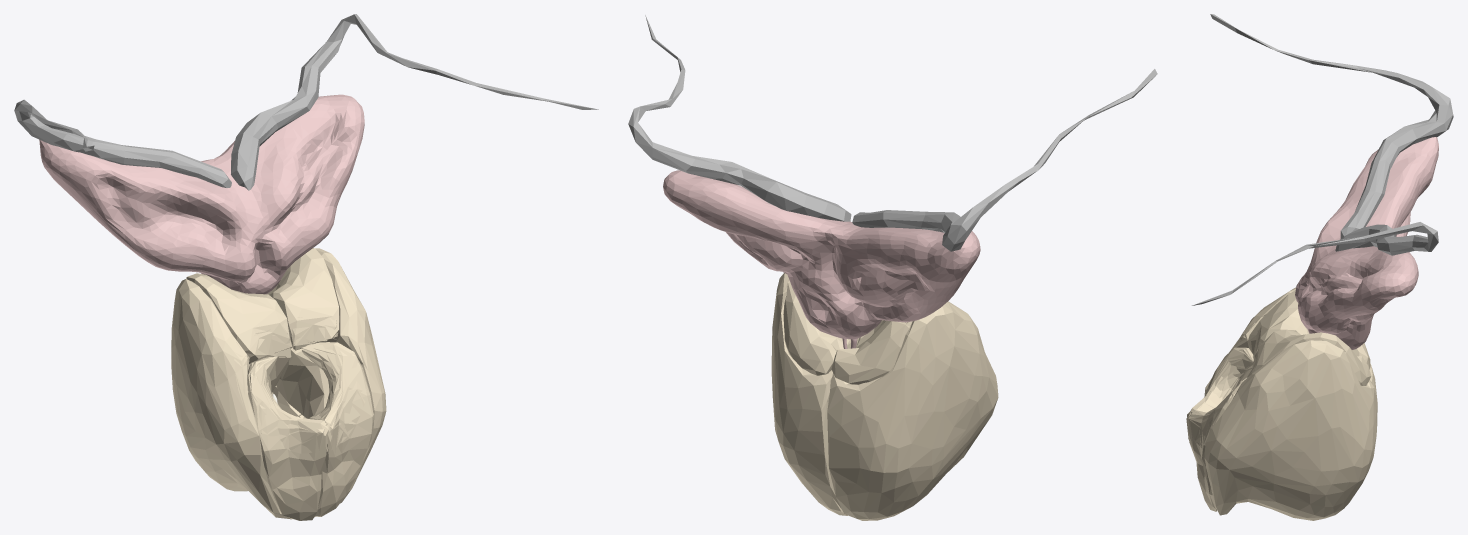
The model's file is VH_M_Prostate_0.2.glb.
The picture shows the model from 3 angles, left to right: view 1: azimuth 30°, elevation 25°; view 2: azimuth 150°, elevation 25°; view 3: azimuth 270°, elevation 25°; orthographic projection. The views are drawn at different scales.
Parts seen in each view (by area): view 1: VH_M_seminal_vesicle, VH_M_peripheral_zone_of_prostate_R, VH_M_anterior_fibromuscular_stroma_R, VH_M_vas_deferens_R, VH_M_anterior_fibromuscular_stroma_L, VH_M_base_of_prostate, VH_M_vas_deferens_L, VH_M_central_zone_of_prostate_L, VH_M_peripheral_zone_of_prostate_L, VH_M_central_zone_of_prostate_R, VH_M_transition_zone__of_prostate_L; view 2: VH_M_peripheral_zone_of_prostate_R, VH_M_seminal_vesicle, VH_M_peripheral_zone_of_prostate_L, VH_M_vas_deferens_R, VH_M_vas_deferens_L, VH_M_central_zone_of_prostate_R, VH_M_central_zone_of_prostate_L; view 3: VH_M_peripheral_zone_of_prostate_L, VH_M_seminal_vesicle, VH_M_vas_deferens_L, VH_M_vas_deferens_R, VH_M_central_zone_of_prostate_L, VH_M_central_zone_of_prostate_R, VH_M_base_of_prostate, VH_M_anterior_fibromuscular_stroma_L, VH_M_anterior_fibromuscular_stroma_R, VH_M_peripheral_zone_of_prostate_R.
Boxes of the visible parts, box(x1,y1,x2,y2) form: VH_M_seminal_vesicle: box(39, 94, 364, 294); VH_M_peripheral_zone_of_prostate_R: box(171, 279, 292, 519); VH_M_anterior_fibromuscular_stroma_R: box(247, 356, 328, 520); VH_M_vas_deferens_R: box(231, 14, 598, 190); VH_M_anterior_fibromuscular_stroma_L: box(301, 342, 373, 516); VH_M_base_of_prostate: box(234, 317, 367, 453); VH_M_vas_deferens_L: box(14, 99, 231, 187); VH_M_central_zone_of_prostate_L: box(267, 248, 339, 350); VH_M_peripheral_zone_of_prostate_L: box(272, 248, 386, 517); VH_M_central_zone_of_prostate_R: box(186, 273, 290, 363); VH_M_transition_zone__of_prostate_L: box(276, 347, 329, 418); VH_M_peripheral_zone_of_prostate_R: box(827, 301, 998, 520); VH_M_seminal_vesicle: box(663, 170, 980, 339); VH_M_peripheral_zone_of_prostate_L: box(771, 273, 847, 515); VH_M_vas_deferens_R: box(628, 15, 851, 221); VH_M_vas_deferens_L: box(852, 69, 1157, 251); VH_M_central_zone_of_prostate_R: box(831, 320, 912, 384); VH_M_central_zone_of_prostate_L: box(783, 280, 858, 375); VH_M_peripheral_zone_of_prostate_L: box(1204, 340, 1377, 520); VH_M_seminal_vesicle: box(1295, 137, 1438, 349); VH_M_vas_deferens_L: box(1210, 14, 1453, 238); VH_M_vas_deferens_R: box(1192, 222, 1438, 305); VH_M_central_zone_of_prostate_L: box(1247, 330, 1371, 385); VH_M_central_zone_of_prostate_R: box(1247, 290, 1370, 369); VH_M_base_of_prostate: box(1187, 323, 1261, 444); VH_M_anterior_fibromuscular_stroma_L: box(1187, 378, 1246, 511); VH_M_anterior_fibromuscular_stroma_R: box(1186, 347, 1253, 439); VH_M_peripheral_zone_of_prostate_R: box(1204, 287, 1377, 412).
Bounding box in the file's own units: 0.0849 × 0.0708 × 0.0428.
